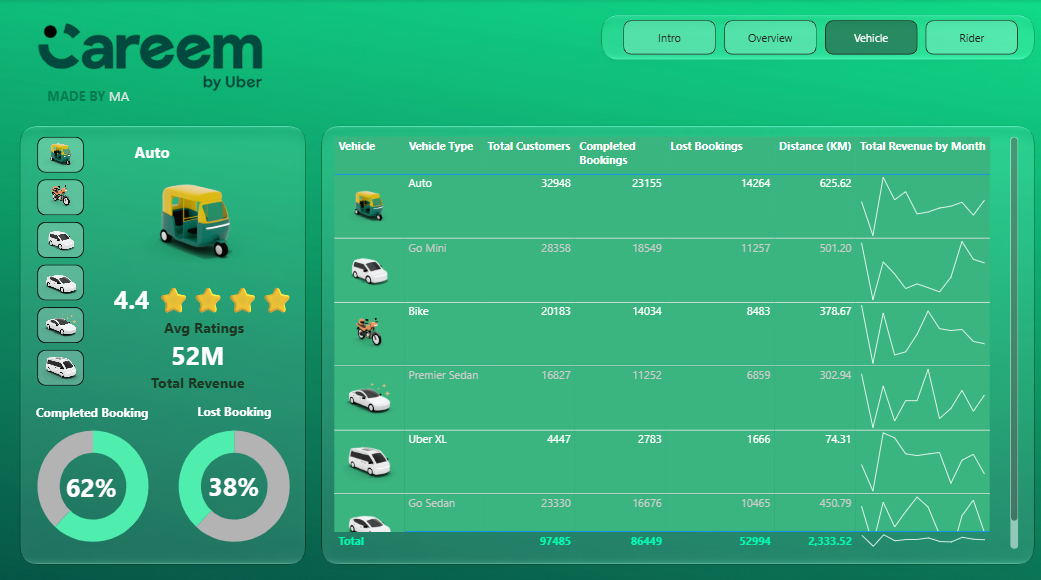

This screenshot's page, from the dashboard's own definition file:
{"tool":"powerbi","page":{"name":"Vehicle","canvas":[1280,720],"ordinal":2},"visuals":[{"type":"cardVisual","fields":{"Data":["Measure.Total Revenue"]},"box":[126.2,391.1,237.4,112.5],"z":0},{"type":"textbox","box":[56.7,101.7,163.3,53.3],"z":1000},{"type":"donutChart","fields":{"Y":["Measure.Completion Rate %","Measure.Incomplete Rate %"]},"box":[27.9,503.8,179.8,182.9],"z":2000},{"type":"cardVisual","fields":{"Data":["Measure.Completion Rate %"]},"box":[54.3,539.4,127.1,111.6],"z":3000},{"type":"donutChart","fields":{"Y":["Measure.Completed Bookings %","Measure.Lost Bookings %"]},"box":[200,503.8,179.8,182.9],"z":4000},{"type":"cardVisual","fields":{"Data":["Measure.Lost Bookings %"]},"box":[229.4,544.1,131.8,96.1],"z":5000},{"type":"textbox","box":[43.4,489.8,156.6,35.7],"z":6000},{"type":"advancedSlicerVisual","fields":{"Values":["Veh_IMG (2).Column1"]},"box":[43.9,163.3,67.2,319.7],"z":7000},{"type":"cardVisual","fields":{"Data":["Min(Sheet1.Vehicle Type)"]},"box":[138.6,150.9,190.7,70],"z":8000},{"type":"cardVisual","fields":{"Data":["Min(Veh_IMG (2).Column2)"]},"box":[93.3,150.9,271.7,209.9],"z":9000},{"type":"cardVisual","fields":{"Data":["Measure.Avg Ratings (Combined)"]},"box":[100.2,323.8,304.6,111.1],"z":10000},{"type":"tableEx","fields":{"Values":["Veh_IMG (2).Column2","Veh_IMG (2).Column1","Sheet1.Customer ID","Measure_.Completed Bookings","Measure_.Lost Bookings","Measure_.Distance (KM)","SparklineData(Measure_.Total Revenue_[Sheet1.Date.Variation.Date Hierarchy.Month])"]},"box":[405.9,163.3,845.4,512.7],"z":11000},{"type":"textbox","box":[240.3,488.3,156.6,35.7],"z":12000},{"type":"pageNavigator","box":[764.5,25.9,482.2,42.7],"z":13000}]}

Visuals, with their boxes in screenshot pixels (x1, y1, x2, y2), scaled from the page's 1280x720 canvas onto the 1041x580 screenshot:
cardVisual - Measure.Total Revenue: [left=103, top=315, right=296, bottom=406]
textbox: [left=46, top=82, right=179, bottom=125]
donutChart - Measure.Completion Rate % x Measure.Incomplete Rate %: [left=23, top=406, right=169, bottom=553]
cardVisual - Measure.Completion Rate %: [left=44, top=435, right=148, bottom=524]
donutChart - Measure.Completed Bookings % x Measure.Lost Bookings %: [left=163, top=406, right=309, bottom=553]
cardVisual - Measure.Lost Bookings %: [left=187, top=438, right=294, bottom=516]
textbox: [left=35, top=395, right=163, bottom=423]
advancedSlicerVisual - Veh_IMG (2).Column1: [left=36, top=132, right=90, bottom=389]
cardVisual - Min(Sheet1.Vehicle Type): [left=113, top=122, right=268, bottom=178]
cardVisual - Min(Veh_IMG (2).Column2): [left=76, top=122, right=297, bottom=291]
cardVisual - Measure.Avg Ratings (Combined): [left=81, top=261, right=329, bottom=350]
tableEx - Veh_IMG (2).Column2 x Veh_IMG (2).Column1: [left=330, top=132, right=1018, bottom=545]
textbox: [left=195, top=393, right=323, bottom=422]
pageNavigator: [left=622, top=21, right=1014, bottom=55]
